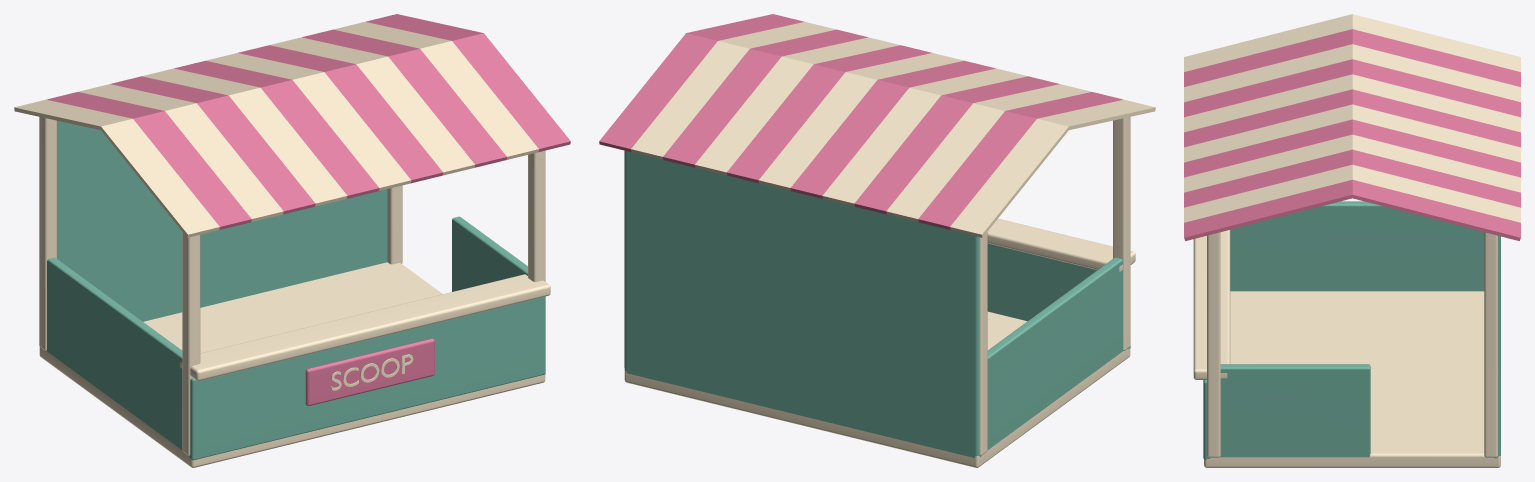
File: Expanded_kiosk_shell.fbx
3 views of the same model, side by side, from view 1: azimuth 30°, elevation 25°; view 2: azimuth 150°, elevation 25°; view 3: azimuth 270°, elevation 25° (orthographic). The views are drawn at different scales.
Visible parts, largest first — view 1: Toon_Expanded_kiosk_shell Kiosk back wall.001, Toon_Expanded_kiosk_shell Front low wall.001, Toon_Expanded_kiosk_shell Kiosk floor.001, Toon_Expanded_kiosk_shell Side lower wall.002, Toon_Expanded_kiosk_shell Serving ledge.001, Toon_Expanded_kiosk_shell Kiosk roof stripe.012, Toon_Expanded_kiosk_shell Kiosk roof stripe.023, Toon_Expanded_kiosk_shell Kiosk roof stripe.014, Toon_Expanded_kiosk_shell Kiosk roof stripe.015, Toon_Expanded_kiosk_shell Kiosk roof stripe.016, Toon_Expanded_kiosk_shell Kiosk roof stripe.013, Toon_Expanded_kiosk_shell Kiosk roof stripe.017 (+12 smaller); view 2: Toon_Expanded_kiosk_shell Kiosk back wall.001, Toon_Expanded_kiosk_shell Side lower wall.002, Toon_Expanded_kiosk_shell Kiosk roof stripe.012, Toon_Expanded_kiosk_shell Kiosk floor.001, Toon_Expanded_kiosk_shell Kiosk roof stripe.023, Toon_Expanded_kiosk_shell Kiosk roof stripe.014, Toon_Expanded_kiosk_shell Kiosk roof stripe.015, Toon_Expanded_kiosk_shell Kiosk roof stripe.016, Toon_Expanded_kiosk_shell Kiosk roof stripe.013, Toon_Expanded_kiosk_shell Kiosk roof stripe.017, Toon_Expanded_kiosk_shell Kiosk roof stripe.018, Toon_Expanded_kiosk_shell Kiosk roof stripe.019 (+7 smaller); view 3: Toon_Expanded_kiosk_shell Kiosk floor.001, Toon_Expanded_kiosk_shell Side lower wall.002, Toon_Expanded_kiosk_shell Side lower wall.003, Toon_Expanded_kiosk_shell Kiosk roof stripe.023, Toon_Expanded_kiosk_shell Kiosk roof stripe.015, Toon_Expanded_kiosk_shell Kiosk roof stripe.016, Toon_Expanded_kiosk_shell Kiosk roof stripe.021, Toon_Expanded_kiosk_shell Kiosk roof stripe.022, Toon_Expanded_kiosk_shell Kiosk roof stripe.017, Toon_Expanded_kiosk_shell Kiosk roof stripe.020, Toon_Expanded_kiosk_shell Kiosk roof stripe.012, Toon_Expanded_kiosk_shell Kiosk roof stripe.013 (+7 smaller).
Boxes of the visible parts, x1,y1,x2,y2 form: Toon_Expanded_kiosk_shell Kiosk back wall.001: (41,120,387,348); Toon_Expanded_kiosk_shell Front low wall.001: (189,296,545,460); Toon_Expanded_kiosk_shell Kiosk floor.001: (39,262,545,467); Toon_Expanded_kiosk_shell Side lower wall.002: (47,257,182,450); Toon_Expanded_kiosk_shell Serving ledge.001: (180,274,550,380); Toon_Expanded_kiosk_shell Kiosk roof stripe.012: (14,99,219,237); Toon_Expanded_kiosk_shell Kiosk roof stripe.023: (365,14,570,152); Toon_Expanded_kiosk_shell Kiosk roof stripe.014: (78,84,283,222); Toon_Expanded_kiosk_shell Kiosk roof stripe.015: (110,76,315,214); Toon_Expanded_kiosk_shell Kiosk roof stripe.016: (142,68,347,206); Toon_Expanded_kiosk_shell Kiosk roof stripe.013: (47,92,251,229); Toon_Expanded_kiosk_shell Kiosk roof stripe.017: (174,60,379,198); Toon_Expanded_kiosk_shell Kiosk back wall.001: (624,150,981,457); Toon_Expanded_kiosk_shell Side lower wall.002: (987,257,1122,450); Toon_Expanded_kiosk_shell Kiosk roof stripe.012: (950,99,1155,237); Toon_Expanded_kiosk_shell Kiosk floor.001: (624,311,1130,467); Toon_Expanded_kiosk_shell Kiosk roof stripe.023: (599,14,804,152); Toon_Expanded_kiosk_shell Kiosk roof stripe.014: (886,84,1091,222); Toon_Expanded_kiosk_shell Kiosk roof stripe.015: (854,76,1059,214); Toon_Expanded_kiosk_shell Kiosk roof stripe.016: (822,68,1027,206); Toon_Expanded_kiosk_shell Kiosk roof stripe.013: (918,92,1122,229); Toon_Expanded_kiosk_shell Kiosk roof stripe.017: (790,60,995,198); Toon_Expanded_kiosk_shell Kiosk roof stripe.018: (758,53,963,190); Toon_Expanded_kiosk_shell Kiosk roof stripe.019: (726,45,931,183); Toon_Expanded_kiosk_shell Kiosk floor.001: (1204,291,1500,467); Toon_Expanded_kiosk_shell Side lower wall.002: (1230,201,1484,291); Toon_Expanded_kiosk_shell Side lower wall.003: (1220,364,1370,457); Toon_Expanded_kiosk_shell Kiosk roof stripe.023: (1184,179,1520,240); Toon_Expanded_kiosk_shell Kiosk roof stripe.015: (1184,59,1520,117); Toon_Expanded_kiosk_shell Kiosk roof stripe.016: (1184,74,1520,132); Toon_Expanded_kiosk_shell Kiosk roof stripe.021: (1184,149,1520,207); Toon_Expanded_kiosk_shell Kiosk roof stripe.022: (1184,164,1520,222); Toon_Expanded_kiosk_shell Kiosk roof stripe.017: (1184,89,1520,147); Toon_Expanded_kiosk_shell Kiosk roof stripe.020: (1184,134,1520,192); Toon_Expanded_kiosk_shell Kiosk roof stripe.012: (1184,14,1520,71); Toon_Expanded_kiosk_shell Kiosk roof stripe.013: (1184,29,1520,86).
Bounding box in the file's own units: 432 × 313 × 340.
